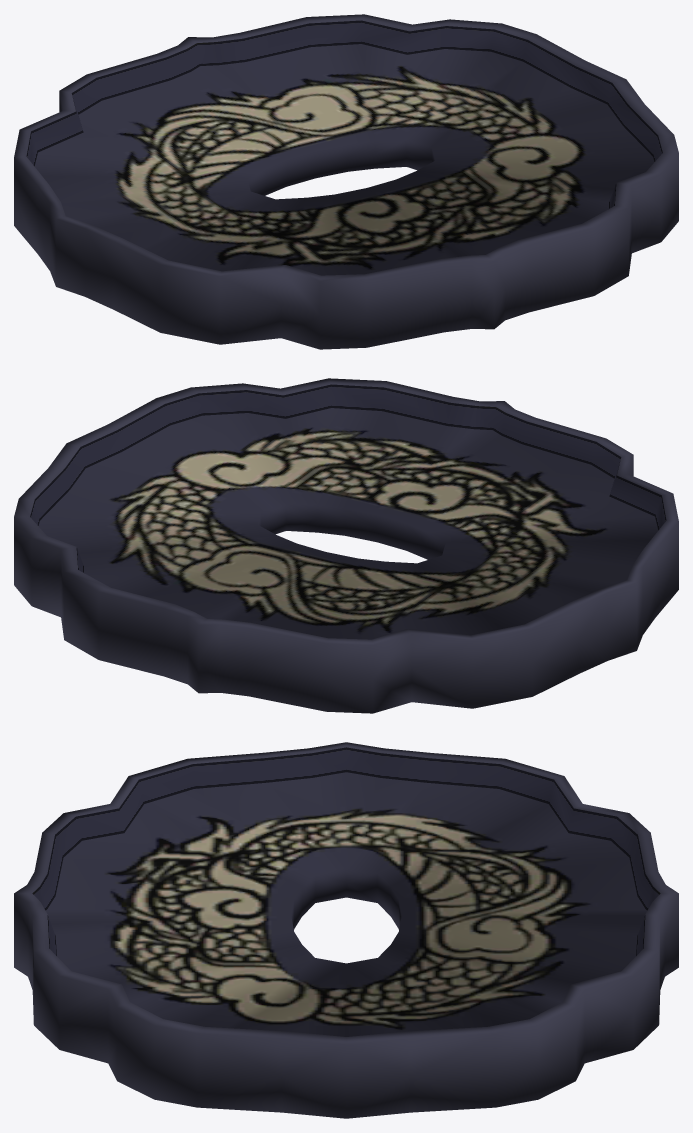
File: daotan_blue_001.fbx
The picture shows the model from 3 angles, top to bottom: view 1: azimuth 30°, elevation 25°; view 2: azimuth 150°, elevation 25°; view 3: azimuth 270°, elevation 25°; orthographic projection. The views are drawn at different scales.
Visible parts, largest first — view 1: daotan_blue_001; view 2: daotan_blue_001; view 3: daotan_blue_001.
Part boxes in pixels (x1,y1,x2,y2): daotan_blue_001: (14,14,678,349); daotan_blue_001: (14,378,678,713); daotan_blue_001: (14,742,678,1118).
Bounding box in the file's own units: 0.2996 × 0.0343 × 0.2785.
1 material, 1 textured.
